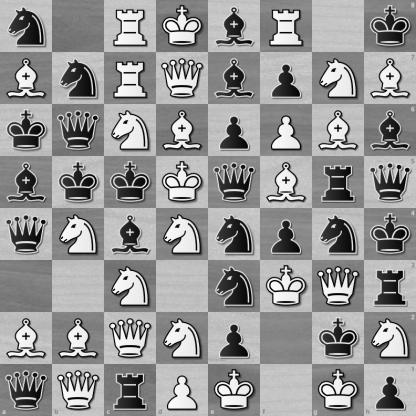B: (364, 52, 416, 104), (1, 53, 52, 104), (1, 313, 52, 364), (53, 313, 104, 364), (157, 105, 208, 156), (261, 157, 312, 208), (313, 105, 364, 156)
K: (312, 364, 364, 416), (209, 364, 260, 416), (157, 1, 208, 52), (157, 157, 208, 208), (261, 261, 312, 312)
N: (364, 312, 416, 364), (53, 209, 104, 260), (105, 105, 156, 156), (105, 261, 156, 312), (157, 209, 208, 260), (157, 313, 208, 364), (313, 53, 364, 104)
P: (156, 364, 209, 416), (261, 105, 312, 156)
Q: (52, 364, 104, 416), (105, 313, 156, 364), (157, 53, 208, 104), (313, 261, 364, 312)
R: (105, 1, 156, 52), (105, 53, 156, 104), (261, 1, 312, 52)
b: (364, 104, 416, 156), (1, 157, 52, 208), (105, 209, 156, 260), (209, 1, 260, 52), (209, 53, 260, 104)
board: (0, 0, 415, 415)
k: (364, 0, 416, 52), (364, 209, 416, 260), (1, 105, 52, 156), (53, 157, 104, 208), (105, 157, 156, 208), (313, 313, 364, 364)
n: (1, 1, 52, 52), (53, 53, 104, 104), (209, 209, 260, 260), (209, 261, 260, 312), (313, 209, 364, 260)
p: (364, 364, 416, 416), (209, 105, 260, 156), (209, 313, 260, 364), (261, 53, 312, 104), (261, 209, 312, 260)
q: (364, 156, 416, 209), (0, 364, 52, 416), (1, 209, 52, 260), (53, 105, 104, 156), (209, 157, 260, 208)
r: (104, 364, 156, 416), (364, 260, 416, 312), (313, 157, 364, 208)
